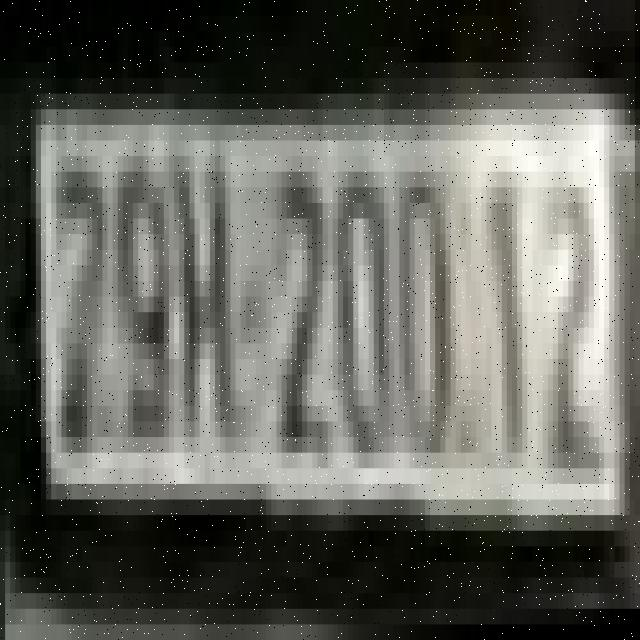0: (335, 156, 392, 468), (397, 164, 453, 460)
1: (484, 164, 530, 460)
2: (540, 164, 607, 476), (51, 156, 108, 453), (274, 164, 330, 460)
7: (51, 156, 108, 453)
9: (113, 148, 169, 445)
H: (179, 140, 236, 452)
